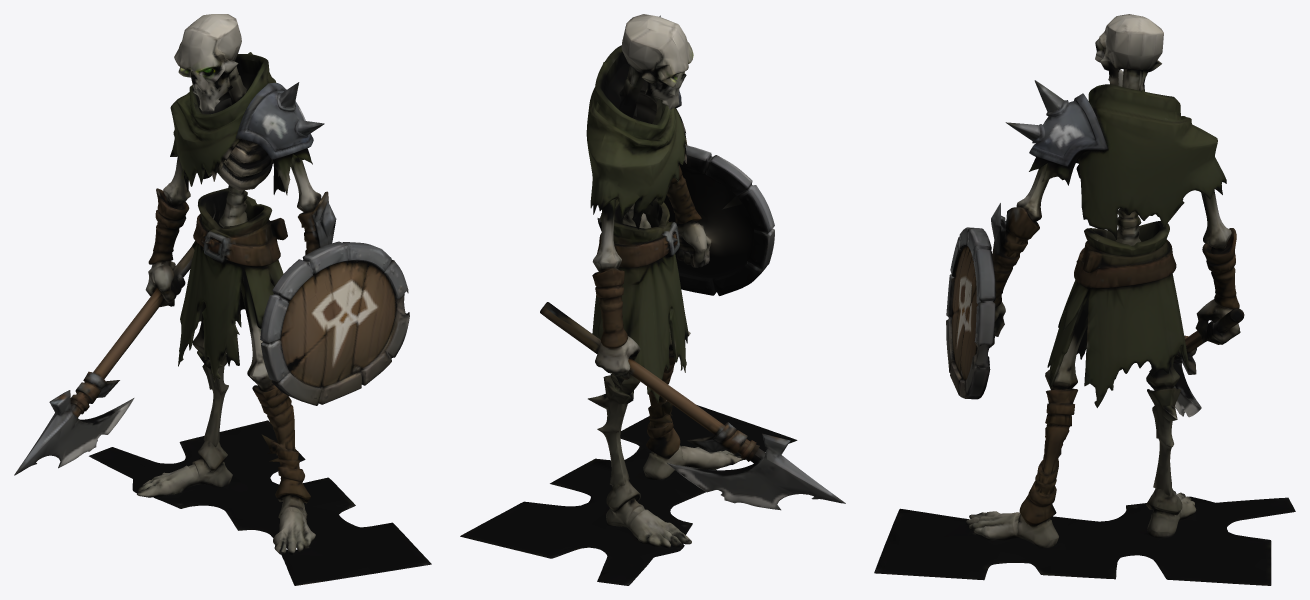
The model's file is skel-warrior.glb.
3 views of the same model, side by side, from view 1: azimuth 30°, elevation 25°; view 2: azimuth 150°, elevation 25°; view 3: azimuth 270°, elevation 25° (orthographic). The views are drawn at different scales.
Parts seen in each view (by area): view 1: node_0; view 2: node_0; view 3: node_0.
Part boxes in pixels (x1,y1,x2,y2): node_0: (14, 14, 431, 585); node_0: (460, 14, 845, 585); node_0: (874, 14, 1295, 585).
Size of the model in its own units: 0.6 by 0.8755 by 0.6591.
1 material, 1 textured.
